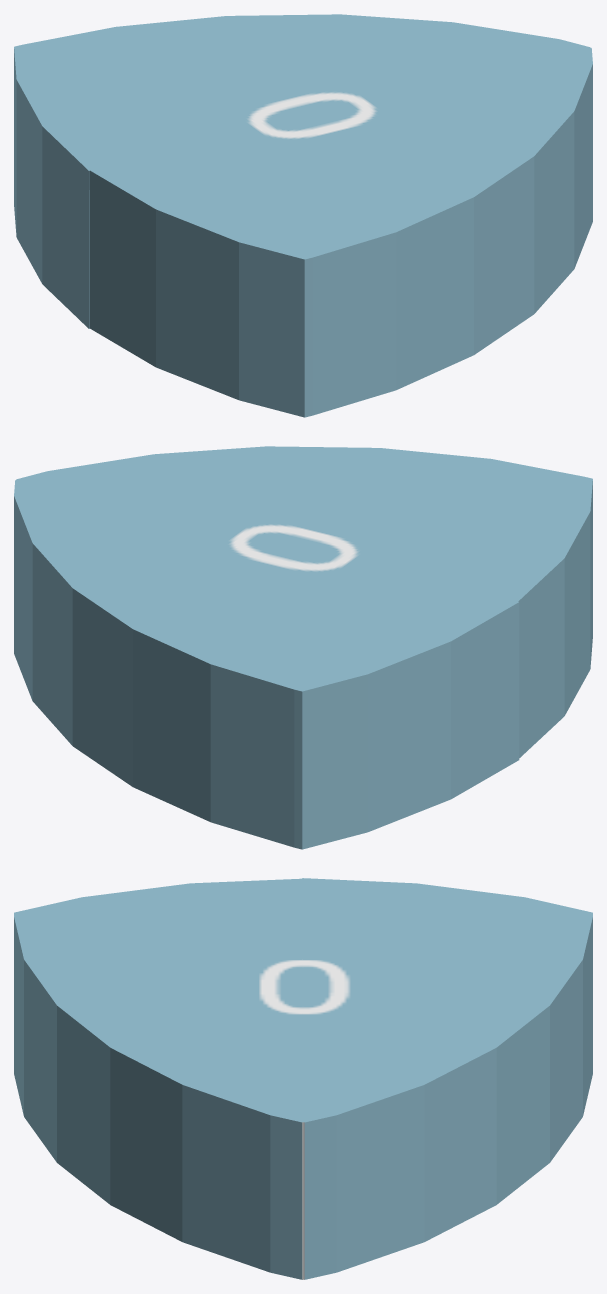
The model's file is button0blue.fbx.
3 views of the same model, one above another, from view 1: azimuth 30°, elevation 25°; view 2: azimuth 150°, elevation 25°; view 3: azimuth 270°, elevation 25° (orthographic).
Parts seen in each view (by area): view 1: Button10; view 2: Button10; view 3: Button10.
Boxes of the visible parts, x1,y1,x2,y2 form: Button10: (14, 14, 592, 417); Button10: (14, 446, 592, 849); Button10: (14, 878, 592, 1279).
Size of the model in its own units: 200 by 60 by 200.
1 material, 1 textured.
